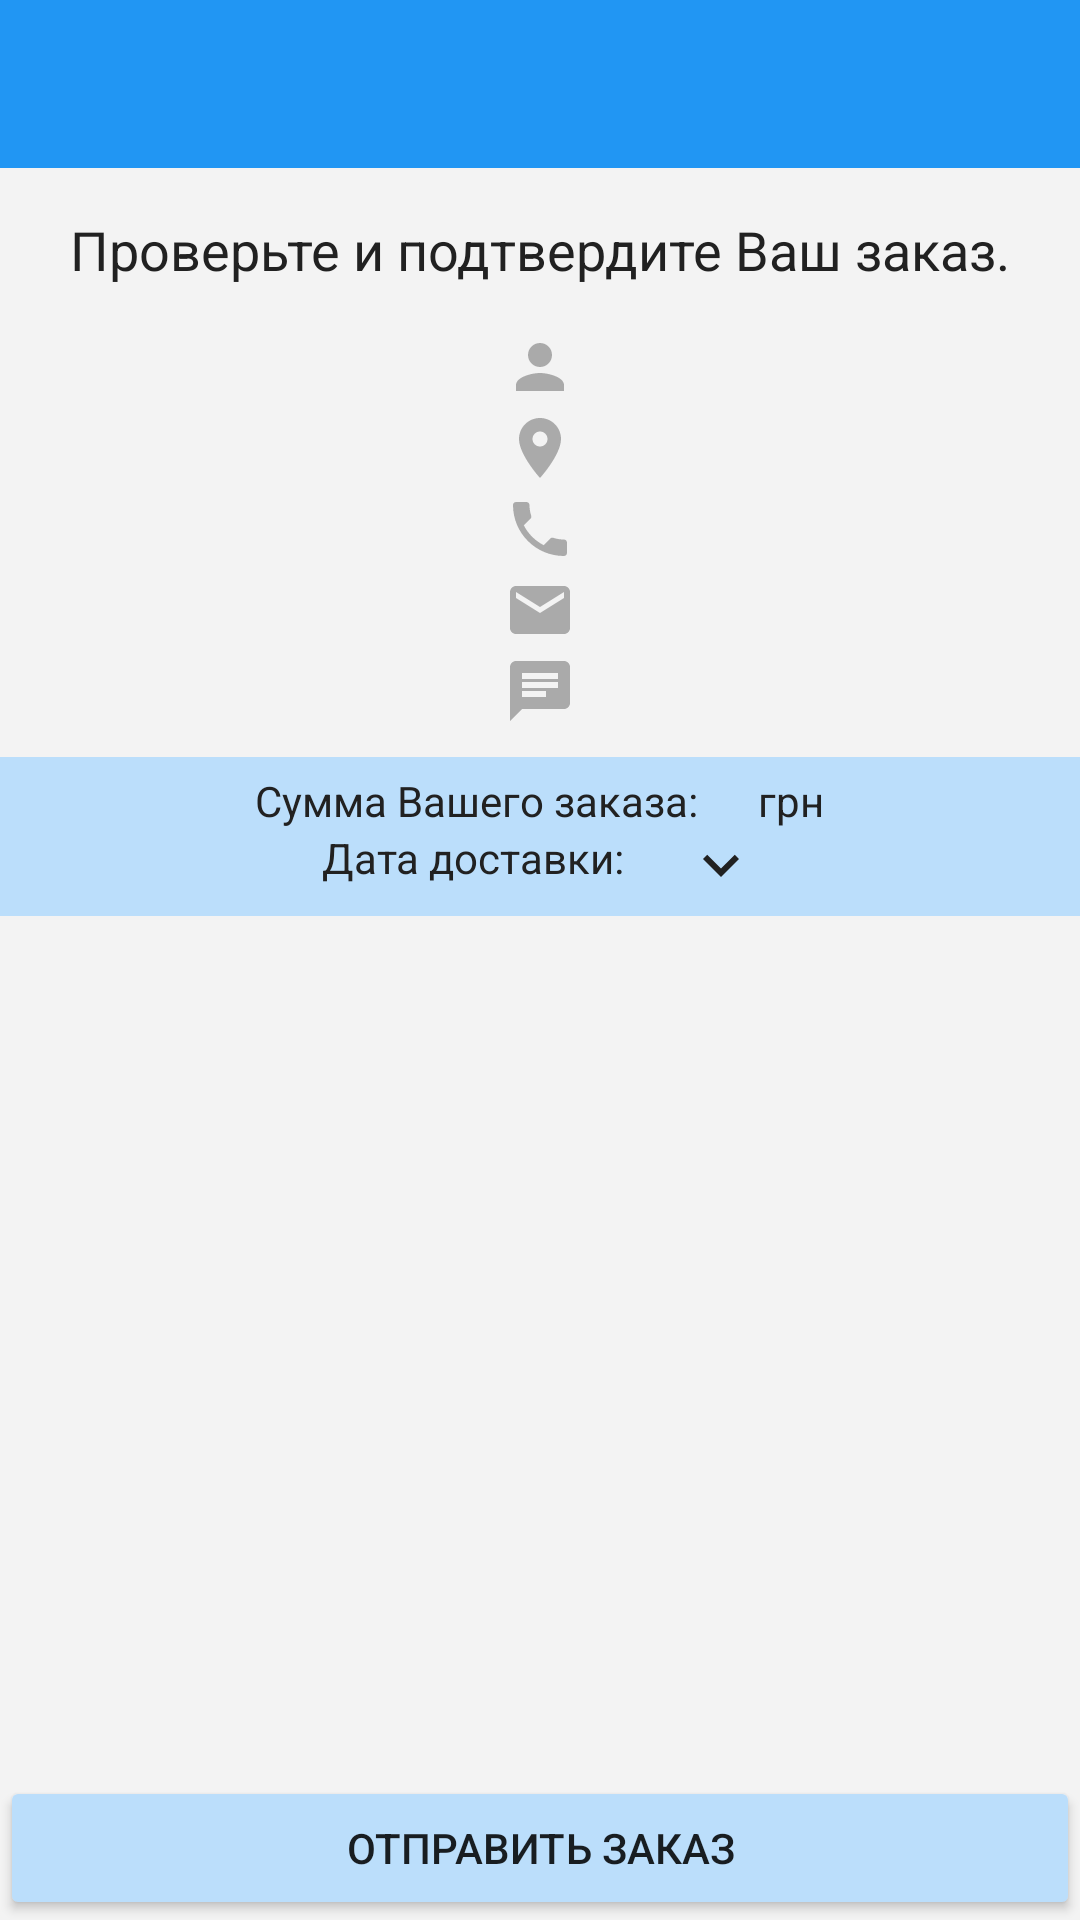

Named icons in this screenshot (1080px x 1920px) and their bounding boxes, (x1, y1, x2, y2):
expand more: (703, 855, 739, 877)
